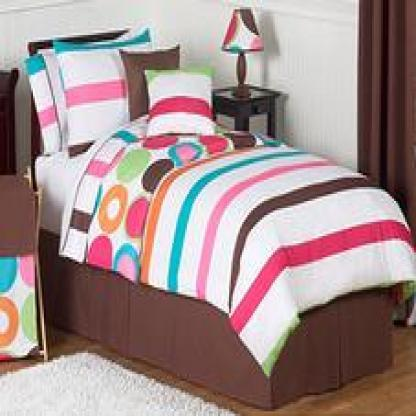Bed: (12, 28, 413, 412)
